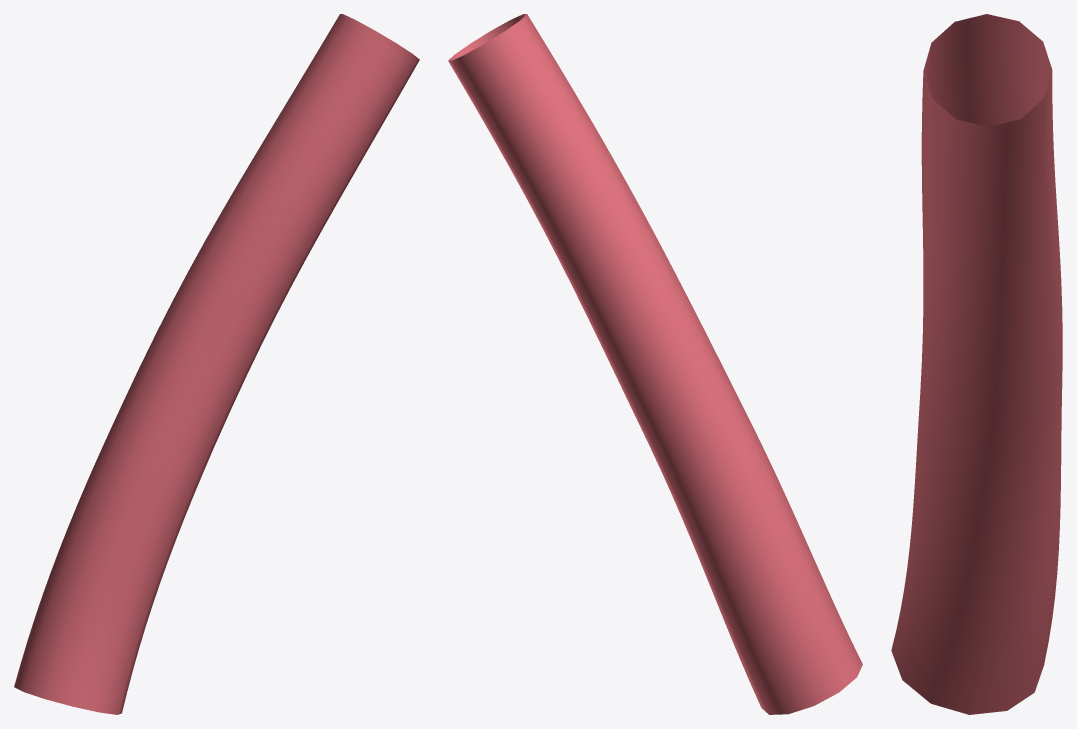
3 renders of one model, left to right at view 1: azimuth 30°, elevation 25°; view 2: azimuth 150°, elevation 25°; view 3: azimuth 270°, elevation 25°, orthographic. The views are drawn at different scales.
Parts seen in each view (by area): view 1: ZA_a9d4576216a94caa; view 2: ZA_a9d4576216a94caa; view 3: ZA_a9d4576216a94caa.
Boxes of the visible parts, x1,y1,x2,y2 form: ZA_a9d4576216a94caa: (14, 14, 419, 714); ZA_a9d4576216a94caa: (448, 14, 862, 714); ZA_a9d4576216a94caa: (891, 14, 1062, 714).
Bounding box in the file's own units: 0.00982 × 0.0148 × 0.00266.
